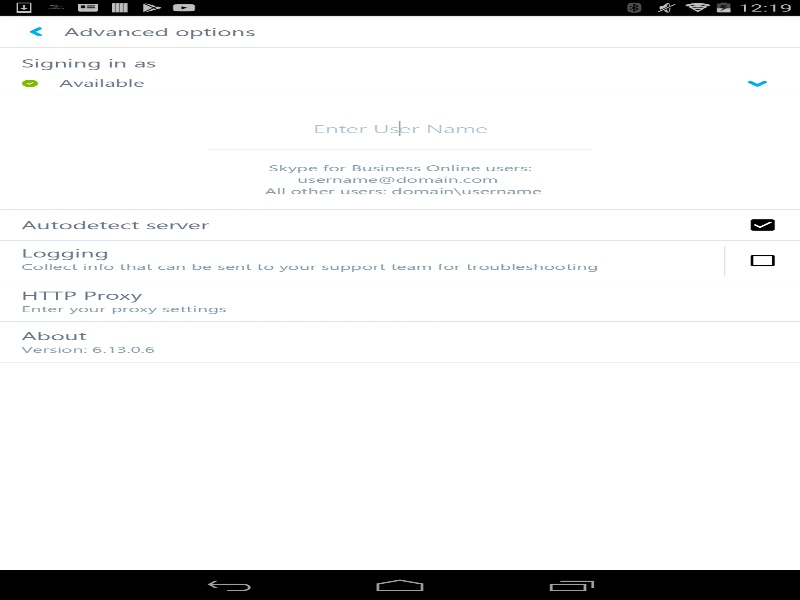Input: (208, 108, 592, 148)
